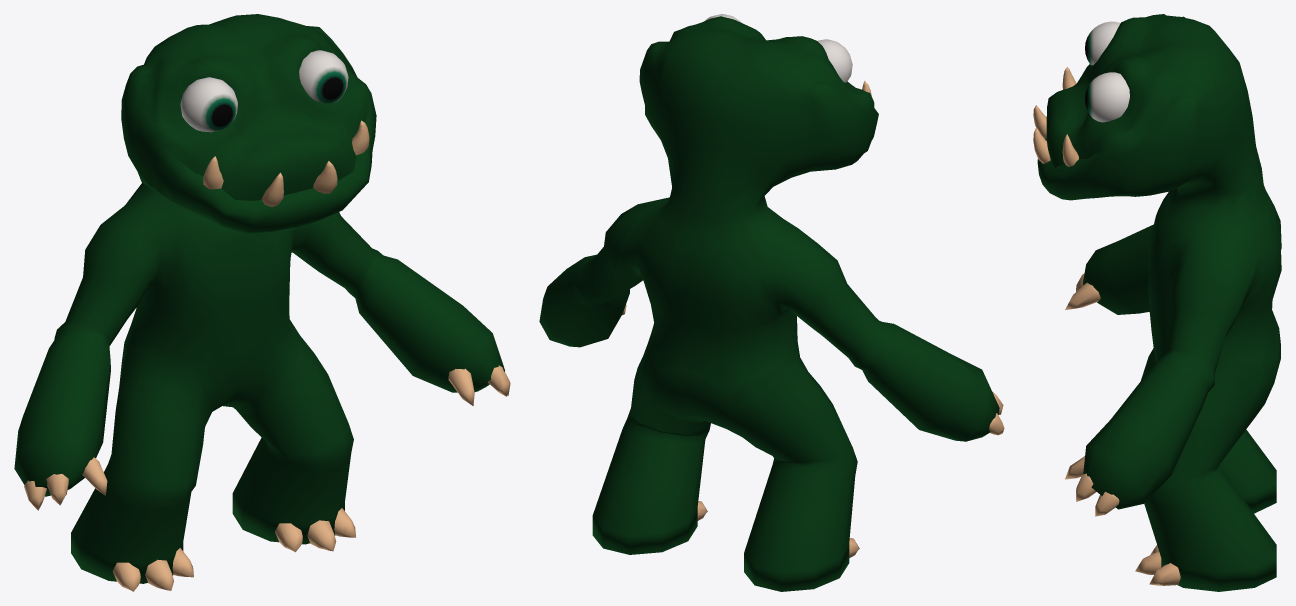
Rendered from Character_Carl_v02.fbx.
The picture shows the model from 3 angles, left to right: view 1: azimuth 30°, elevation 25°; view 2: azimuth 150°, elevation 25°; view 3: azimuth 270°, elevation 25°; orthographic projection. The views are drawn at different scales.
Parts seen in each view (by area): view 1: MeshCarl; view 2: MeshCarl; view 3: MeshCarl.
Part boxes in pixels (bbox=[...]): MeshCarl: bbox=[14, 14, 510, 591]; MeshCarl: bbox=[539, 14, 1004, 591]; MeshCarl: bbox=[1033, 14, 1281, 591].
Bounding box in the file's own units: 91.2 × 96.34 × 43.21.
